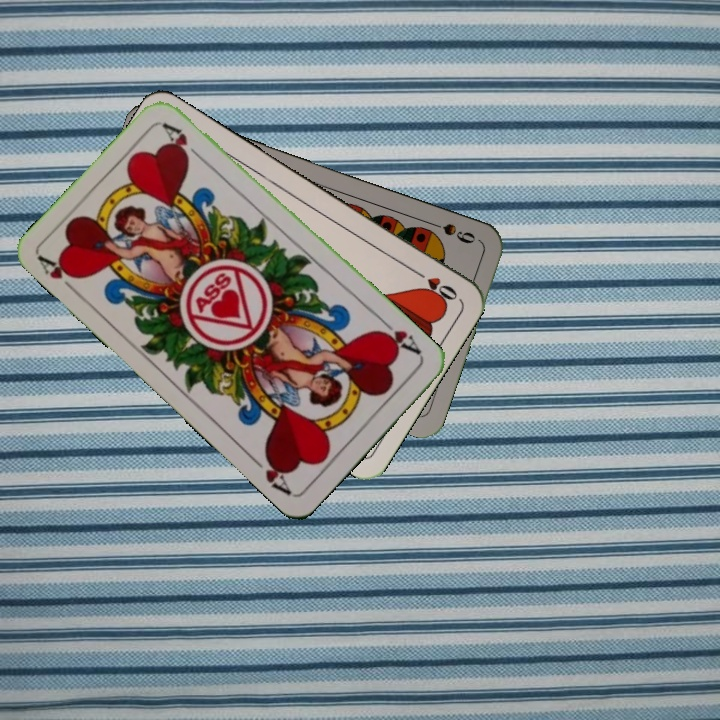HA: (371, 315, 424, 359), (35, 252, 83, 299)
HO: (408, 265, 461, 305)
S9: (423, 217, 478, 246)
